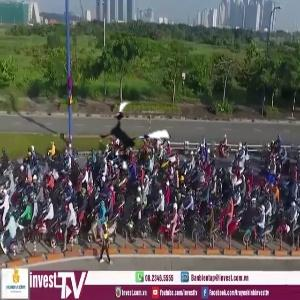drone: (96, 99, 172, 175)
